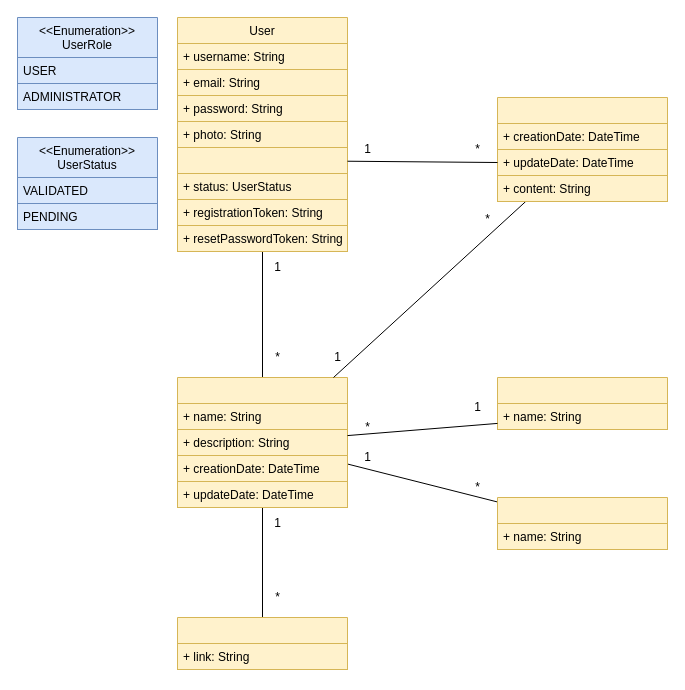
The diagram is 685 pixels wide and 690 high, and some of its shapes have lost their labels. Each missing label, with the box of its shape:
+ roles: UserRole: (176, 146, 348, 174)
Message: (496, 96, 668, 202)
Trick: (176, 376, 348, 508)
TrickGroup: (496, 376, 668, 430)
TrickPhoto: (496, 496, 668, 550)
TrickVideo: (176, 616, 348, 670)
